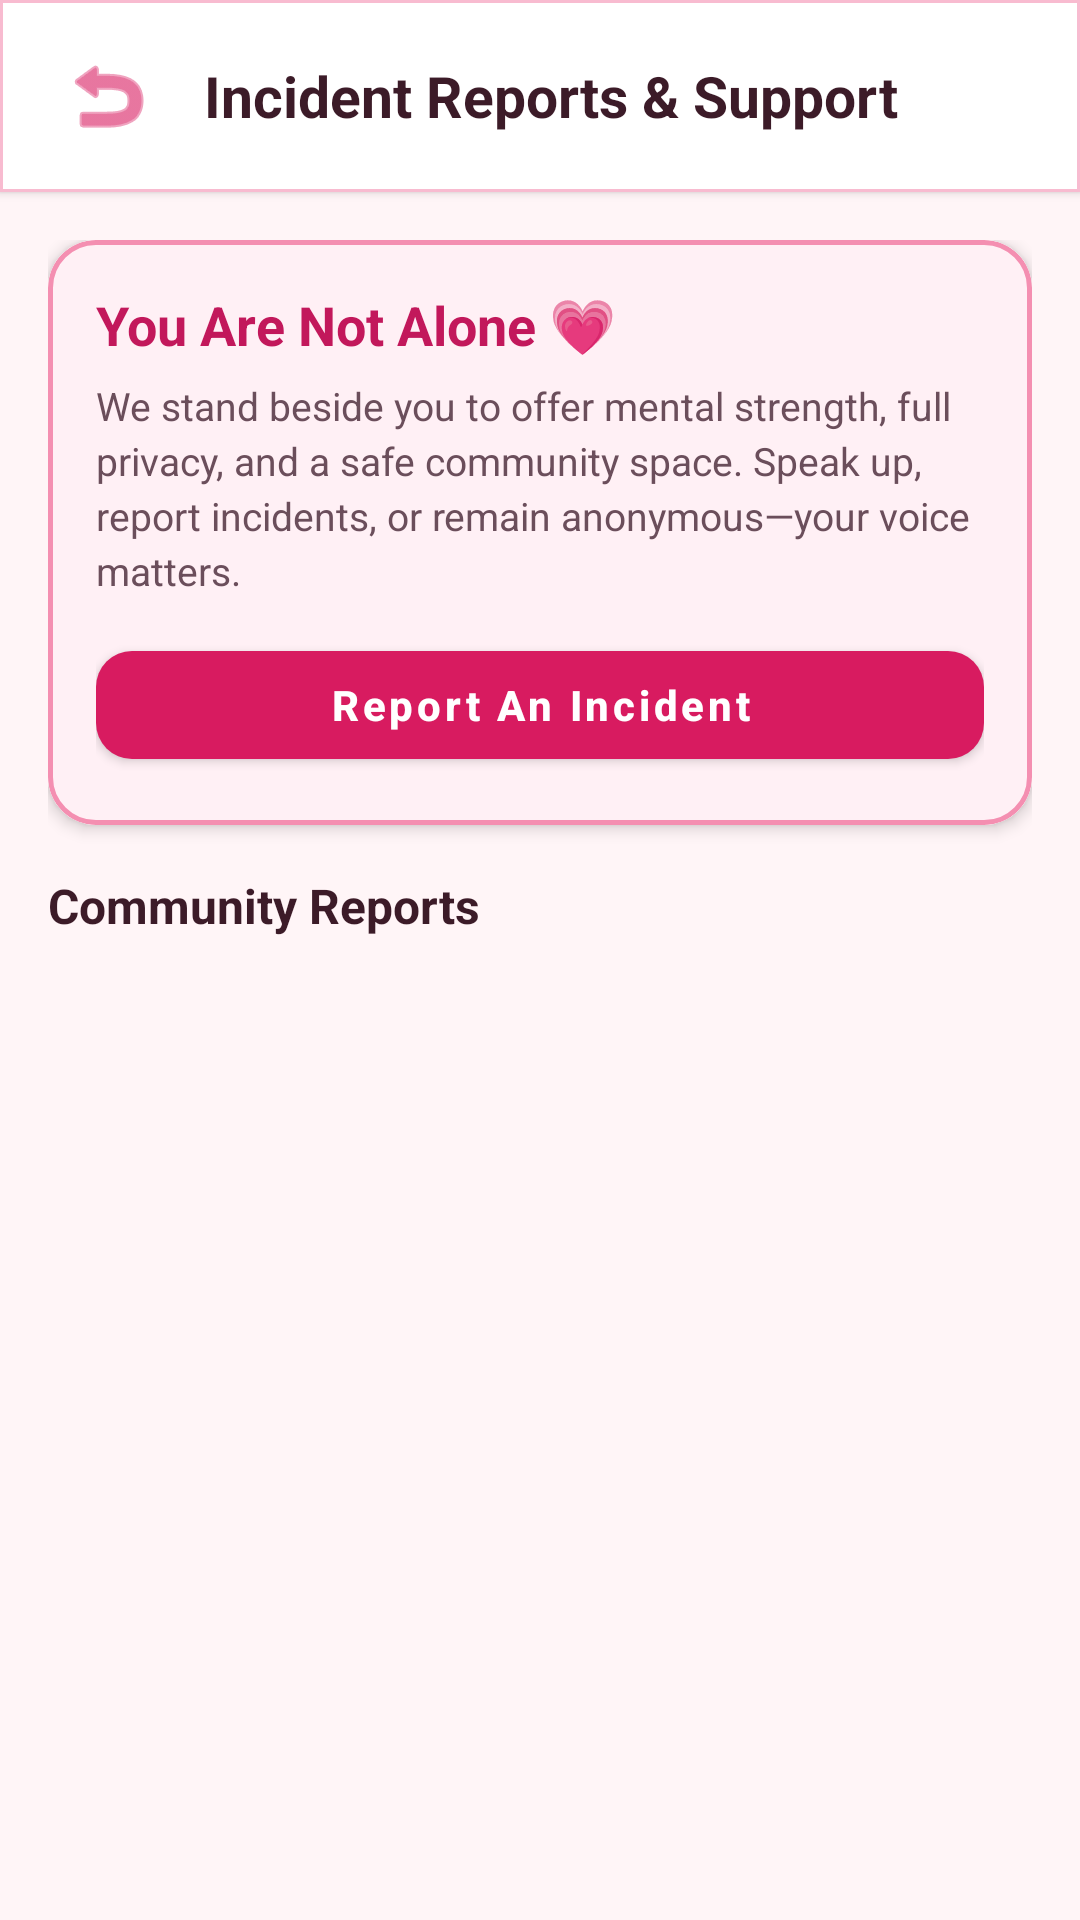

Point at icon controls on the screen. Image size 1080px×1920px, points as (x,y).
Back: (109,96)
